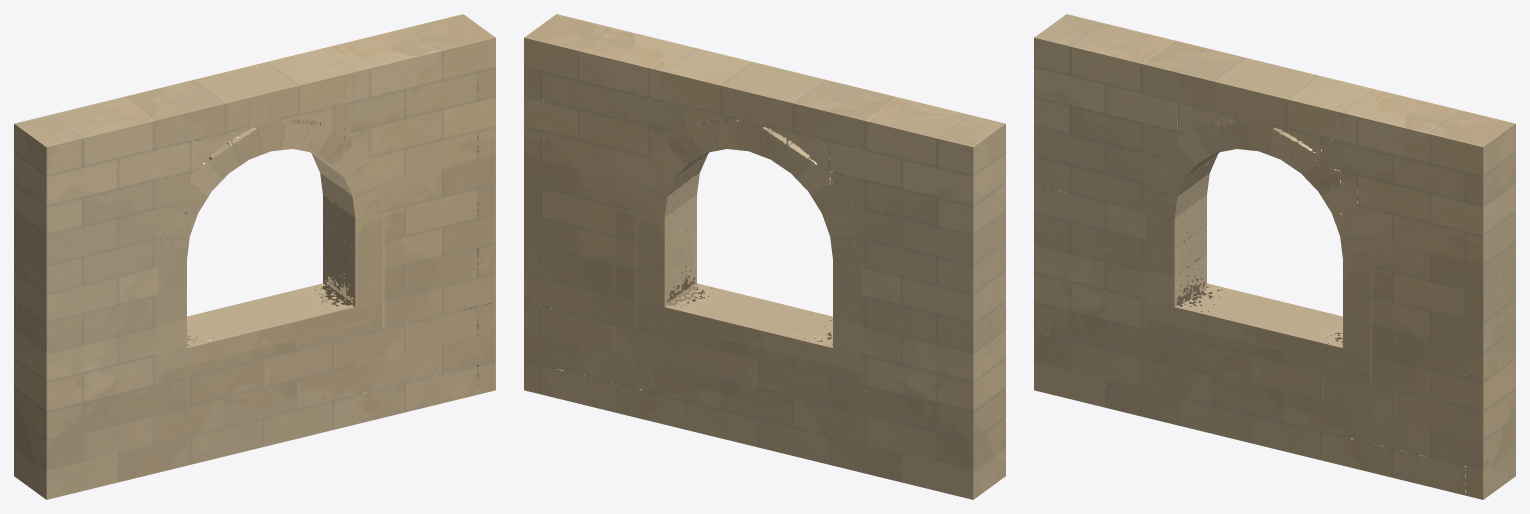
3 renders of one model, left to right at view 1: azimuth 30°, elevation 25°; view 2: azimuth 150°, elevation 25°; view 3: azimuth 330°, elevation 25°, orthographic.
Visible parts, largest first — view 1: L12_Baked; view 2: L12_Baked; view 3: L12_Baked.
Boxes of the visible parts, x1=… form: L12_Baked: x1=14, y1=14, x2=495, y2=499; L12_Baked: x1=524, y1=14, x2=1005, y2=499; L12_Baked: x1=1034, y1=14, x2=1515, y2=499.
Bounding box in the file's own units: 400 × 300 × 50.
